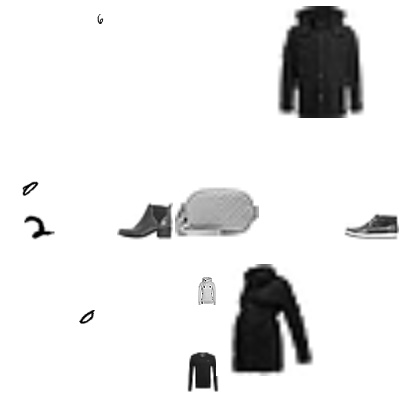0: (18, 177, 40, 199), (76, 306, 98, 328)
2: (17, 206, 59, 248)
6: (93, 13, 107, 27)
Ankle_boot: (117, 193, 173, 249)
Bag: (175, 170, 259, 254)
Coat: (216, 264, 328, 376), (263, 6, 375, 118)
Pullover: (182, 351, 224, 393), (193, 277, 221, 305)
Sneaker: (343, 197, 399, 253)
